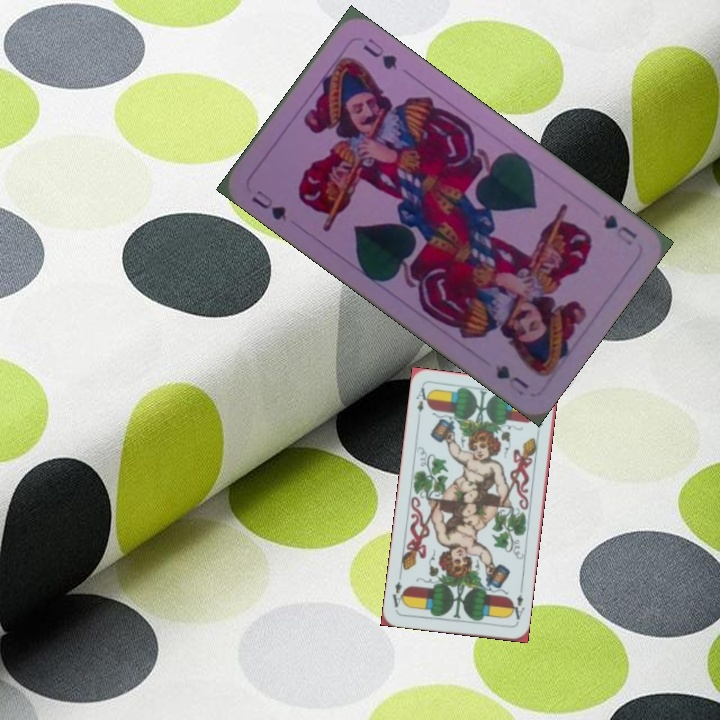EA: (412, 383, 432, 423), (506, 590, 527, 625)
GU: (247, 185, 289, 224), (598, 210, 640, 249)
